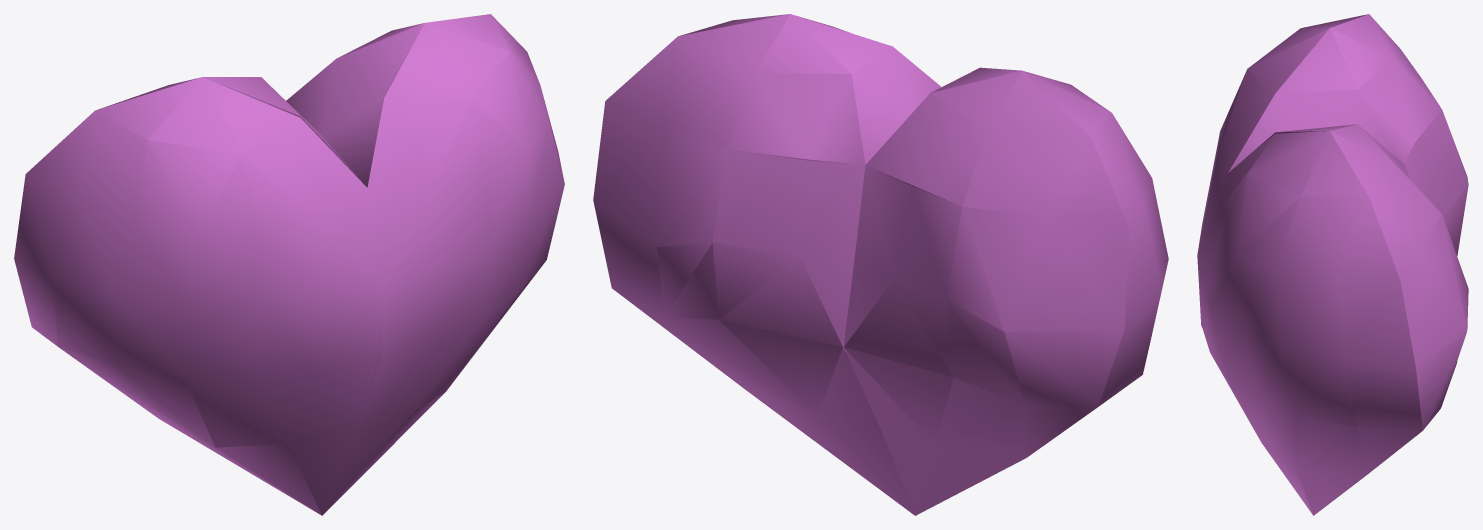
The model's file is hearth_center.obj.
3 renders of one model, left to right at view 1: azimuth 30°, elevation 25°; view 2: azimuth 150°, elevation 25°; view 3: azimuth 270°, elevation 25°, orthographic. The views are drawn at different scales.
Parts seen in each view (by area): view 1: 000_Heart; view 2: 000_Heart; view 3: 000_Heart.
Boxes of the visible parts, x1,y1,x2,y2 form: 000_Heart: (14,14,564,515); 000_Heart: (593,14,1168,515); 000_Heart: (1197,14,1468,515).
Bounding box in the file's own units: 55.81 × 48.2 × 27.16.
